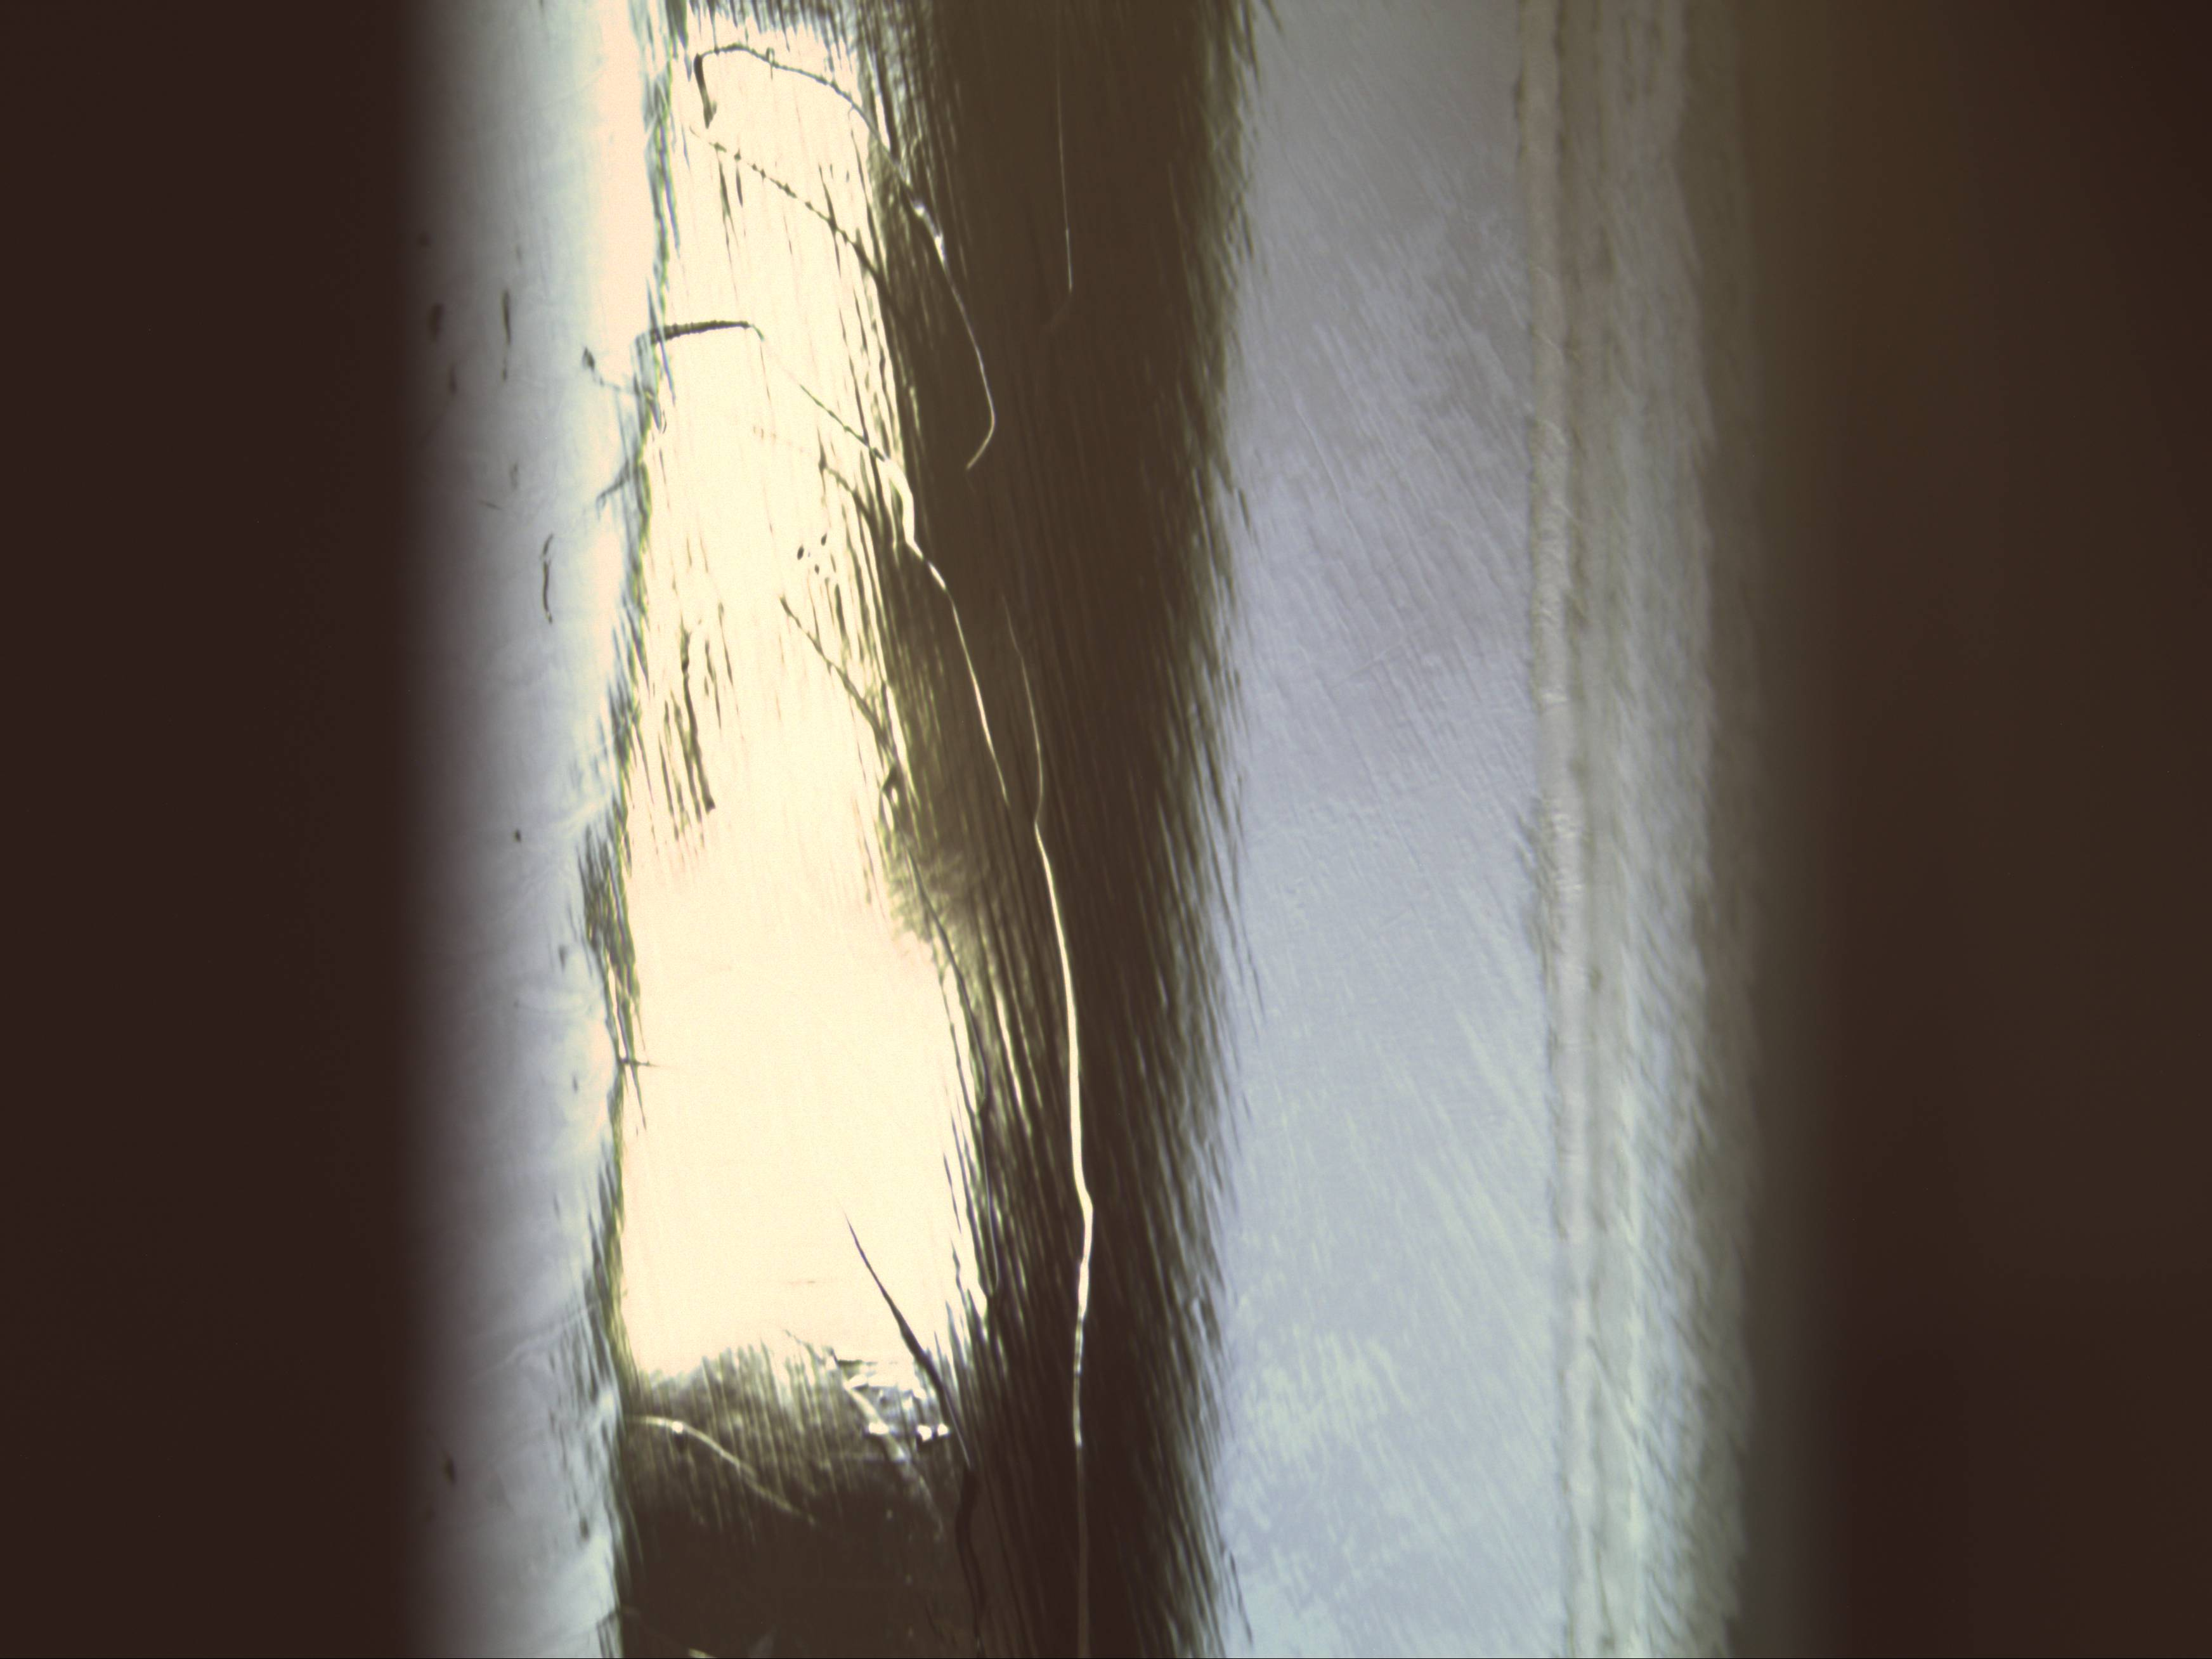defect: (909, 1415, 958, 1452)
